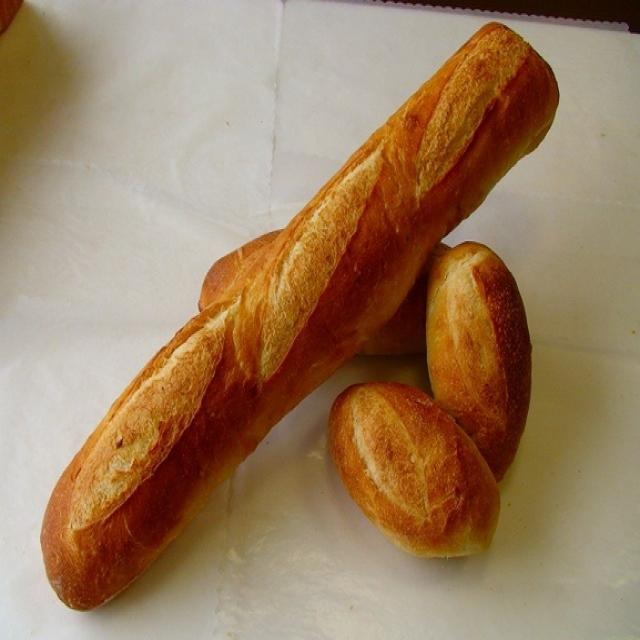Bread: (14, 8, 570, 628)
